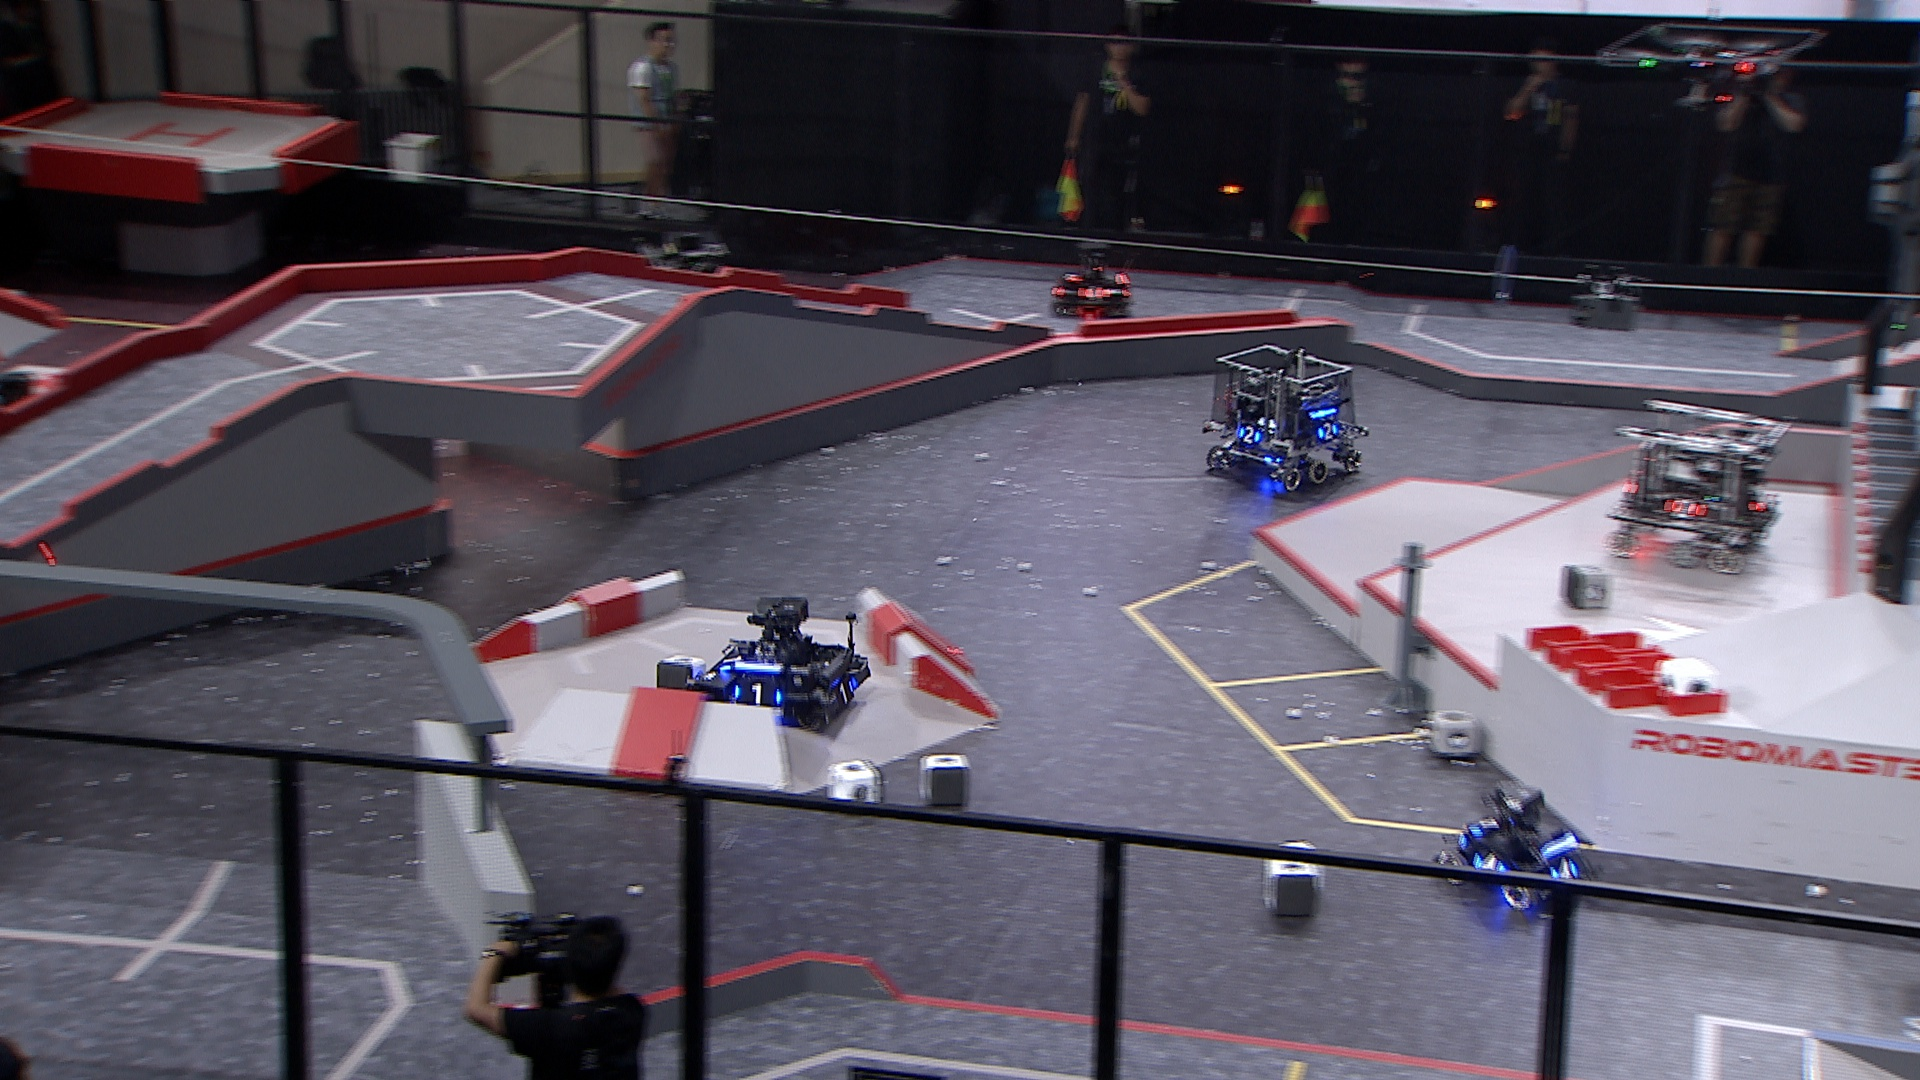armor: (735, 680, 785, 709), (1664, 498, 1706, 524), (1470, 851, 1509, 877), (1465, 815, 1501, 837), (717, 650, 746, 676), (1551, 858, 1581, 882), (1079, 284, 1110, 302), (1316, 419, 1340, 443), (836, 680, 855, 709), (1240, 425, 1262, 447)
car: (1600, 401, 1793, 578), (1199, 344, 1371, 495), (692, 595, 872, 736), (1429, 783, 1600, 916), (645, 228, 731, 316), (1048, 243, 1133, 320)
